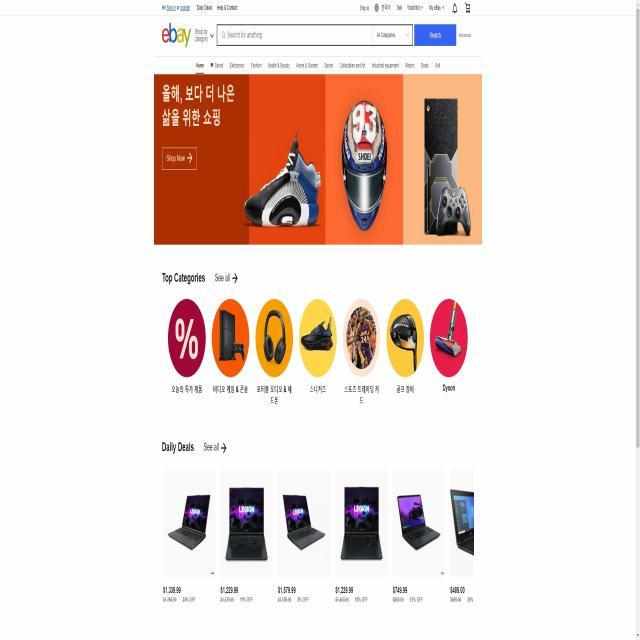menu-bar: (358, 0, 472, 16)
search: (216, 20, 457, 49)
tab-bar: (194, 56, 444, 72)
